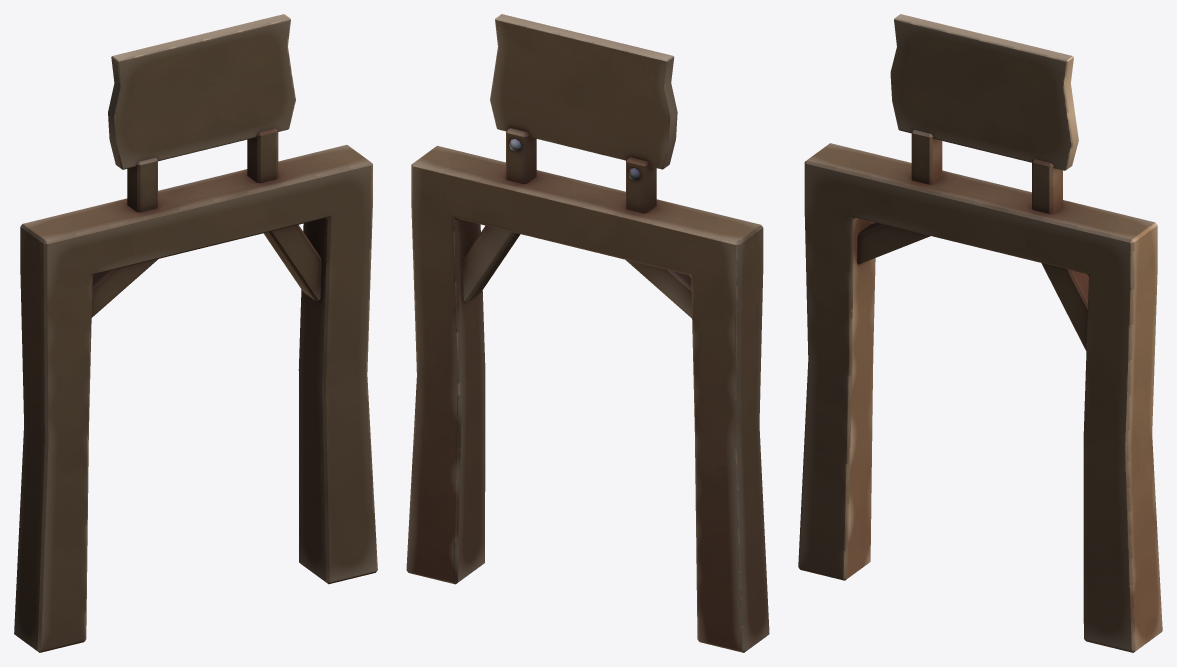
File: Gate 1.fbx
The picture shows the model from 3 angles, left to right: view 1: azimuth 30°, elevation 25°; view 2: azimuth 150°, elevation 25°; view 3: azimuth 330°, elevation 25°; orthographic projection.
Parts seen in each view (by area): view 1: Cube.029, Plane.001, Cube.028, Cube.027, Cube.026, Cube.023; view 2: Cube.029, Plane.001, Cube.028, Cube.023, Cube.026, Cube.027; view 3: Cube.029, Plane.001, Cube.028, Cube.023, Cube.026, Cube.027.
Boxes of the visible parts, x1=… form: Cube.029: x1=14, y1=145, x2=377, y2=652; Plane.001: x1=108, y1=14, x2=295, y2=169; Cube.028: x1=264, y1=225, x2=321, y2=301; Cube.027: x1=247, y1=128, x2=278, y2=183; Cube.026: x1=127, y1=157, x2=157, y2=212; Cube.023: x1=91, y1=259, x2=158, y2=317; Cube.029: x1=406, y1=145, x2=769, y2=652; Plane.001: x1=490, y1=14, x2=677, y2=169; Cube.028: x1=462, y1=225, x2=520, y2=301; Cube.023: x1=625, y1=259, x2=691, y2=318; Cube.026: x1=626, y1=157, x2=656, y2=213; Cube.027: x1=506, y1=128, x2=536, y2=183; Cube.029: x1=798, y1=143, x2=1162, y2=652; Plane.001: x1=890, y1=14, x2=1078, y2=170; Cube.028: x1=1041, y1=263, x2=1088, y2=350; Cube.023: x1=857, y1=222, x2=930, y2=264; Cube.026: x1=911, y1=129, x2=942, y2=184; Cube.027: x1=1032, y1=159, x2=1062, y2=213.
Size of the model in its own units: 15 by 23.96 by 2.29.
